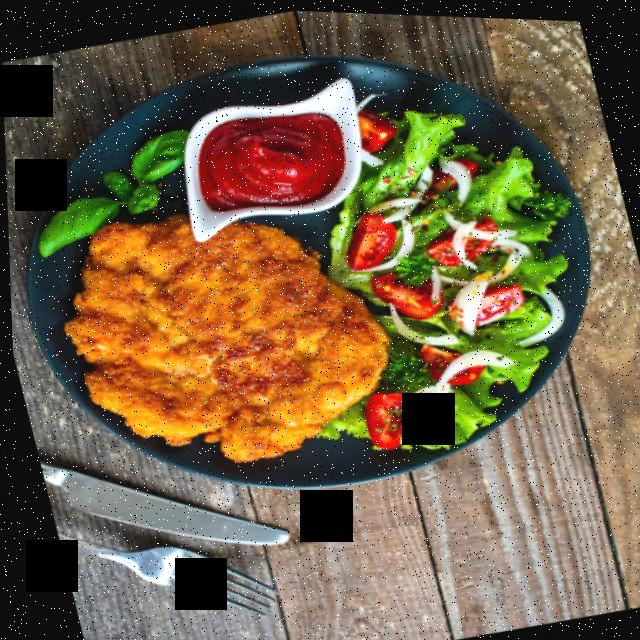Frango: (40, 166, 413, 497)
